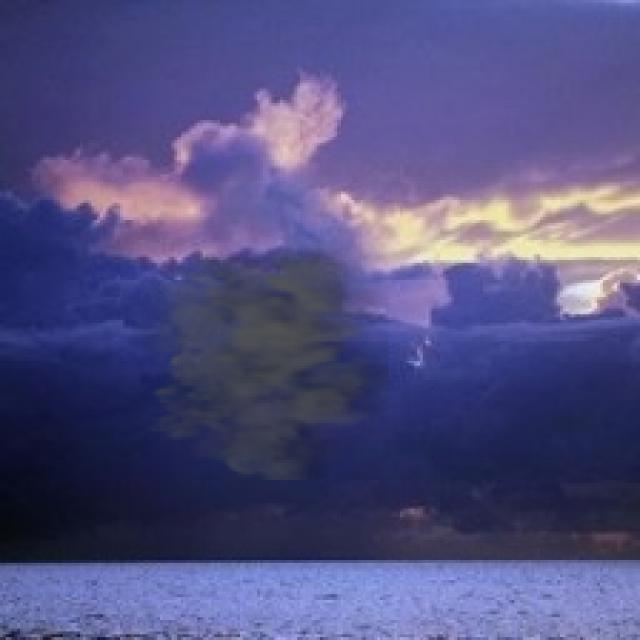Smoke: (120, 235, 389, 480)
